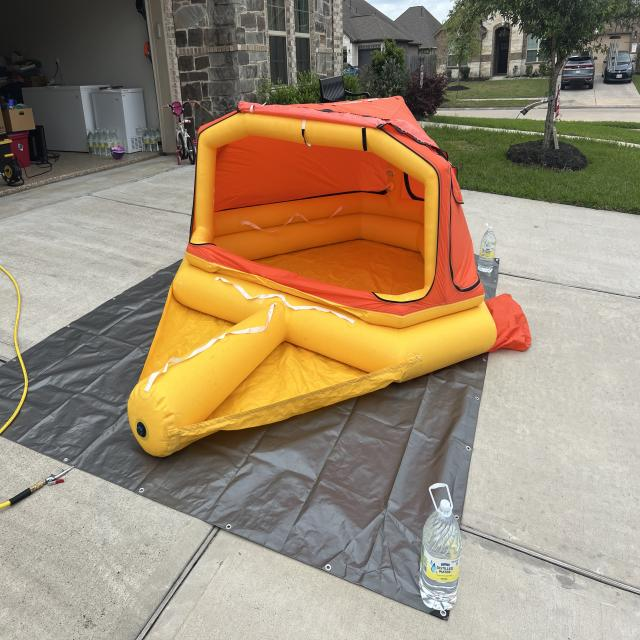Multi-person_life_raft: (127, 93, 531, 462)
